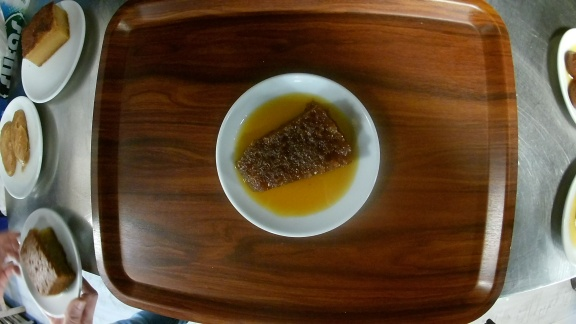ekmekkadayifi: (217, 72, 380, 238)
